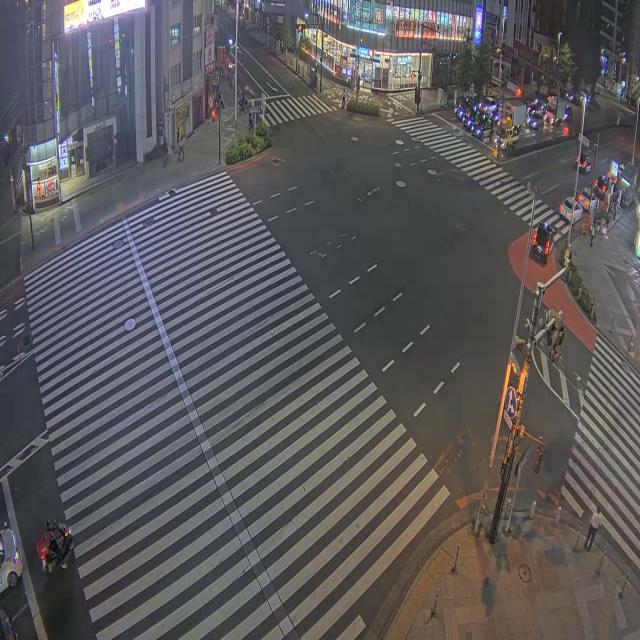car: (0, 524, 22, 591), (531, 223, 554, 263), (559, 197, 582, 223), (0, 606, 17, 639), (472, 115, 493, 139), (577, 187, 596, 211), (593, 172, 609, 200), (454, 96, 473, 119), (462, 104, 479, 129), (593, 175, 608, 200), (575, 153, 591, 173), (525, 112, 543, 129), (480, 98, 498, 113)
motorcycle: (35, 521, 73, 573)
truck: (545, 97, 569, 124), (503, 100, 525, 127)
